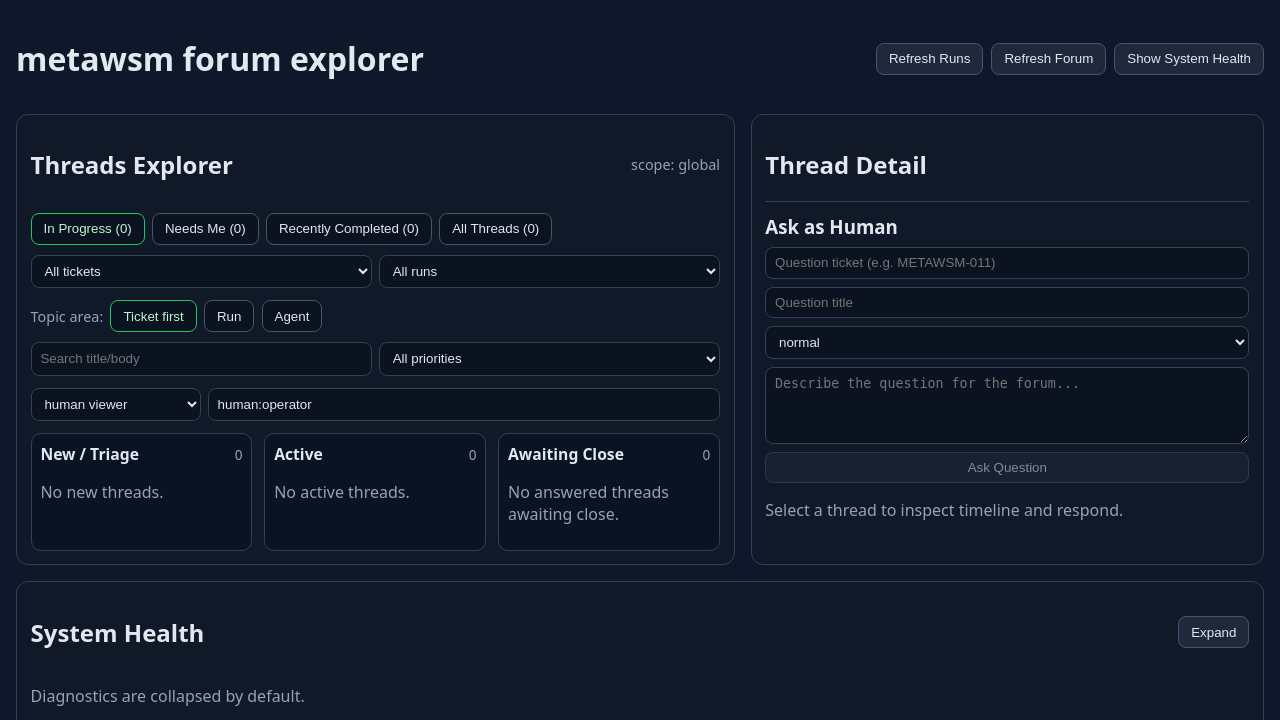
App ask-question flow › keeps Ask Question disabled until required fields are populated
Expected: the heading "Threads Explorer" is shown, [31,148,233,181]
Expected: the button "Ask Question" is disabled, [765,452,1249,483]
Type "METAWSM-011" into the field with placeholder "Question ticket (e.g. METAWSM-011)". click: coordinates (1007, 263)
box: [765,247,1249,279]
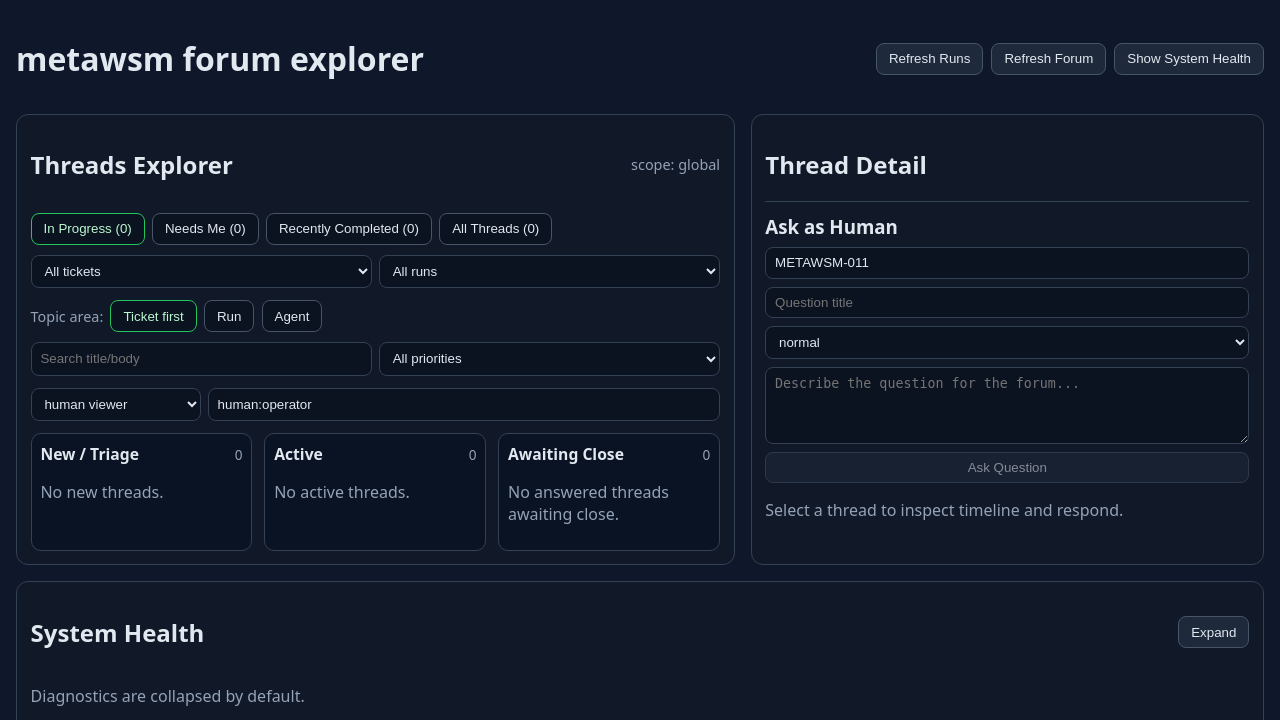
Expected: the button "Ask Question" is disabled, [765,452,1249,483]
Type "Need direction" into the field with placeholder "Question title". click: coordinates (1007, 302)
box: [765,287,1249,318]
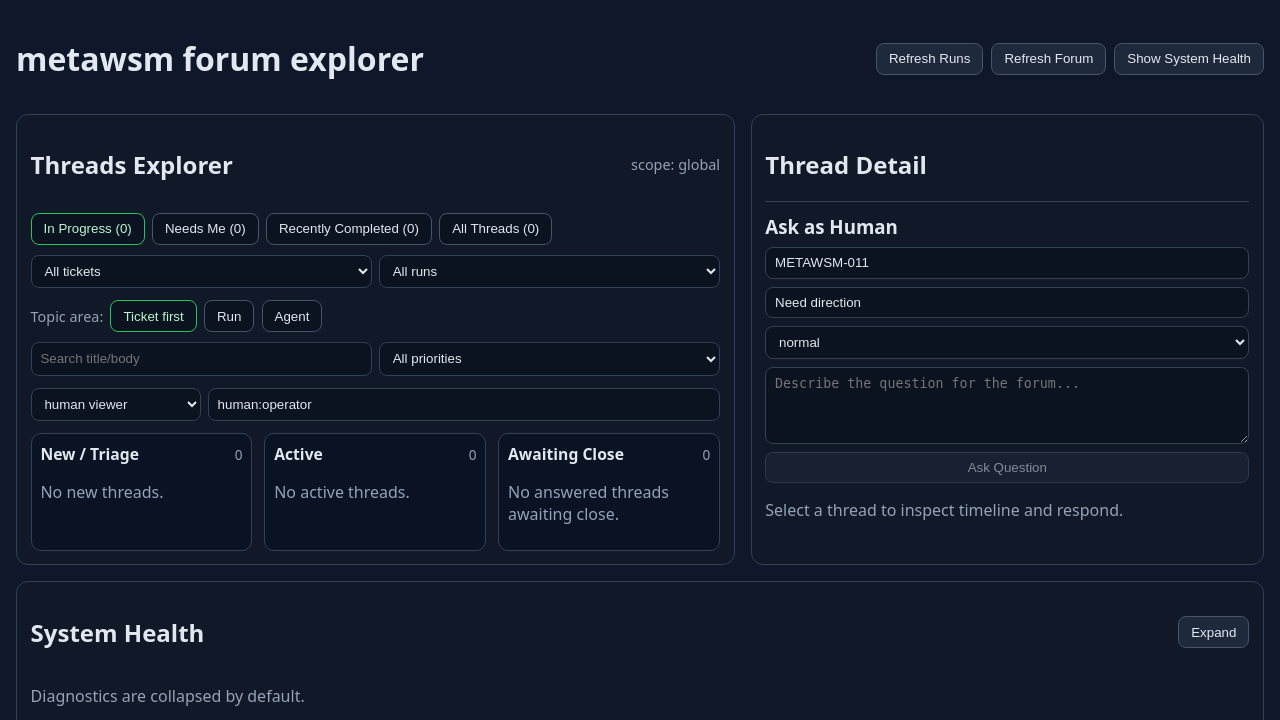
Expected: the button "Ask Question" is disabled, [765,452,1249,483]
Type "Should we proceed with the migration?" into the text box with placeholder "Describe the question for the forum...". click: coordinates (1007, 406)
box: [765,367,1249,444]
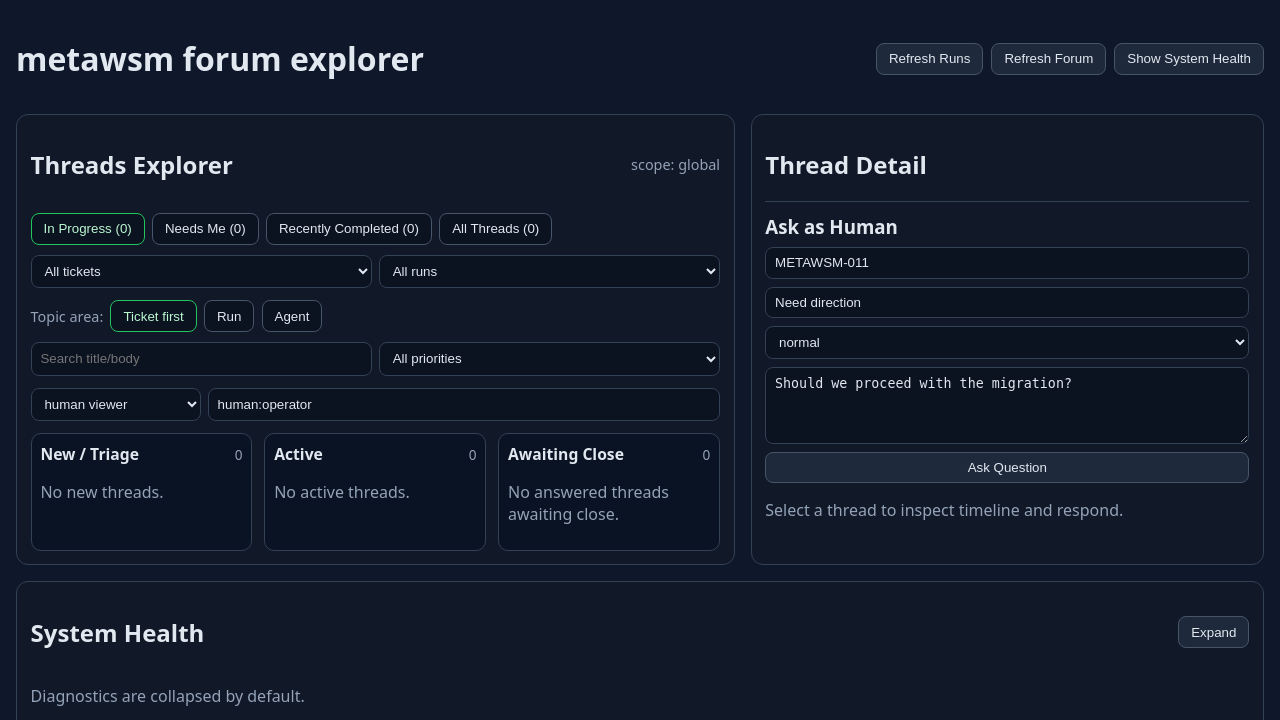
Result: the button "Ask Question" is enabled at [765,452,1249,483]
